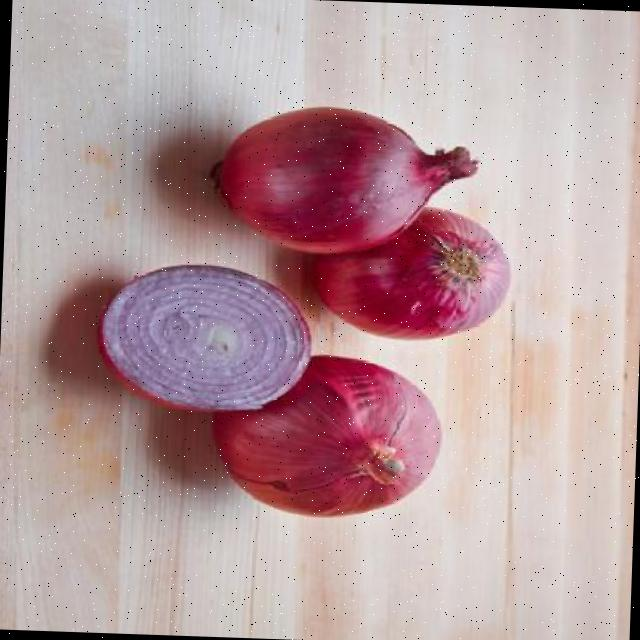Onion: (212, 106, 476, 253), (212, 355, 439, 518), (312, 208, 509, 340)
